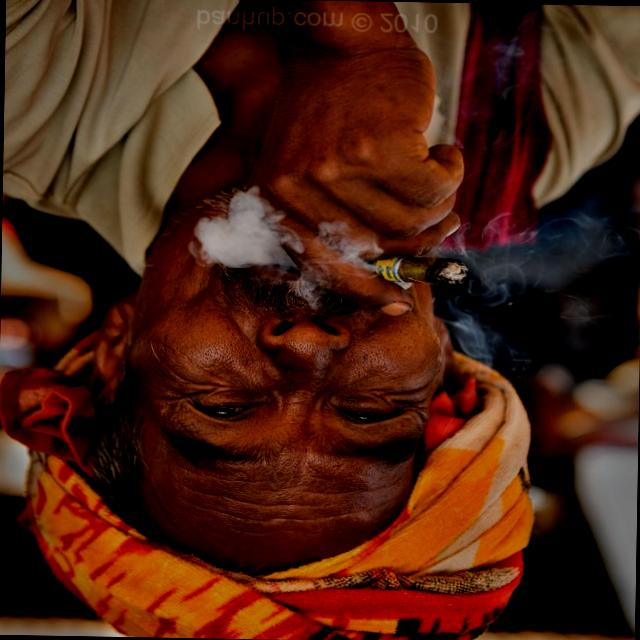smoke: (319, 237, 486, 296)
